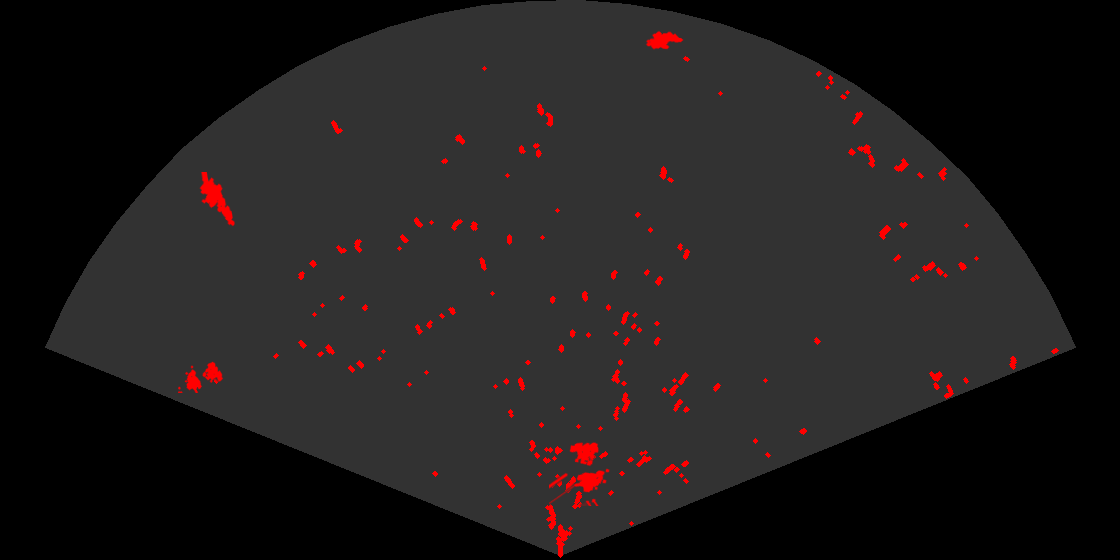AUV: (644, 29, 685, 51)
cage: (549, 441, 611, 506), (178, 360, 225, 393)
frogman: (198, 172, 236, 228)
